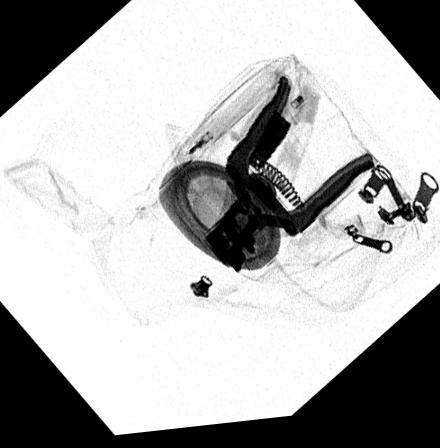Pliers: (200, 79, 380, 280)
